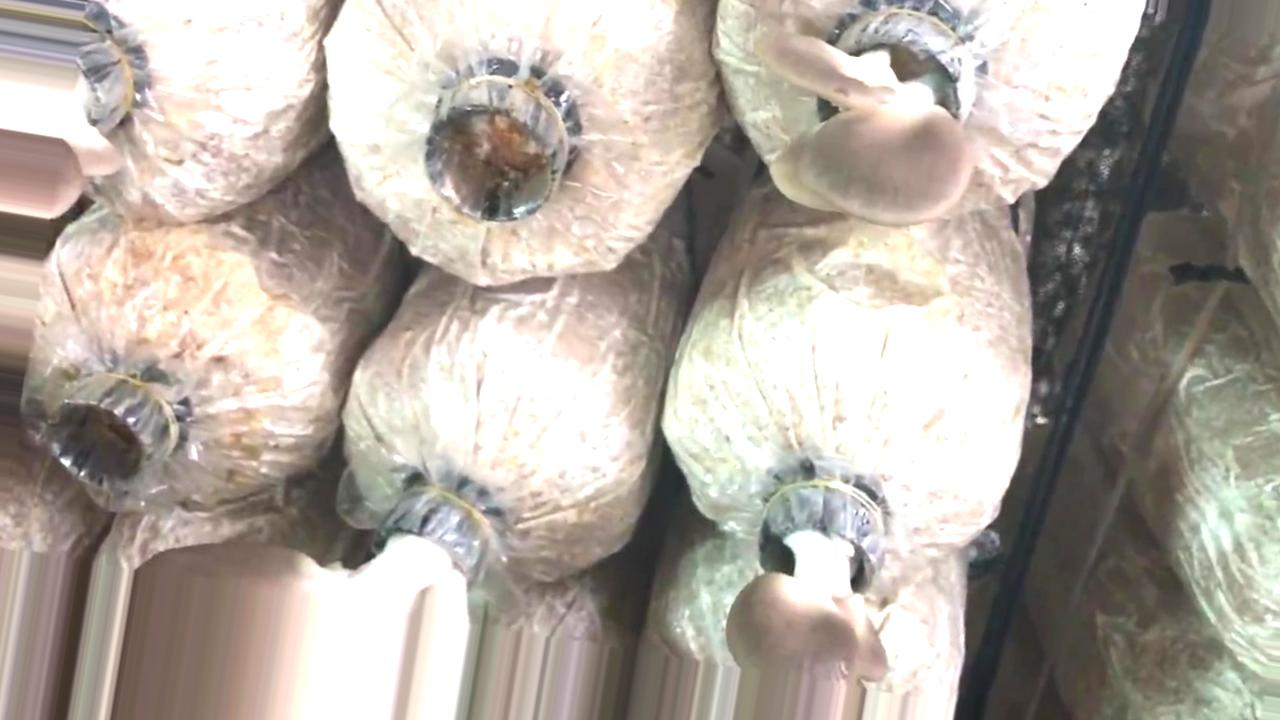nam: (113, 499, 516, 720), (754, 1, 993, 228), (728, 473, 889, 720)
